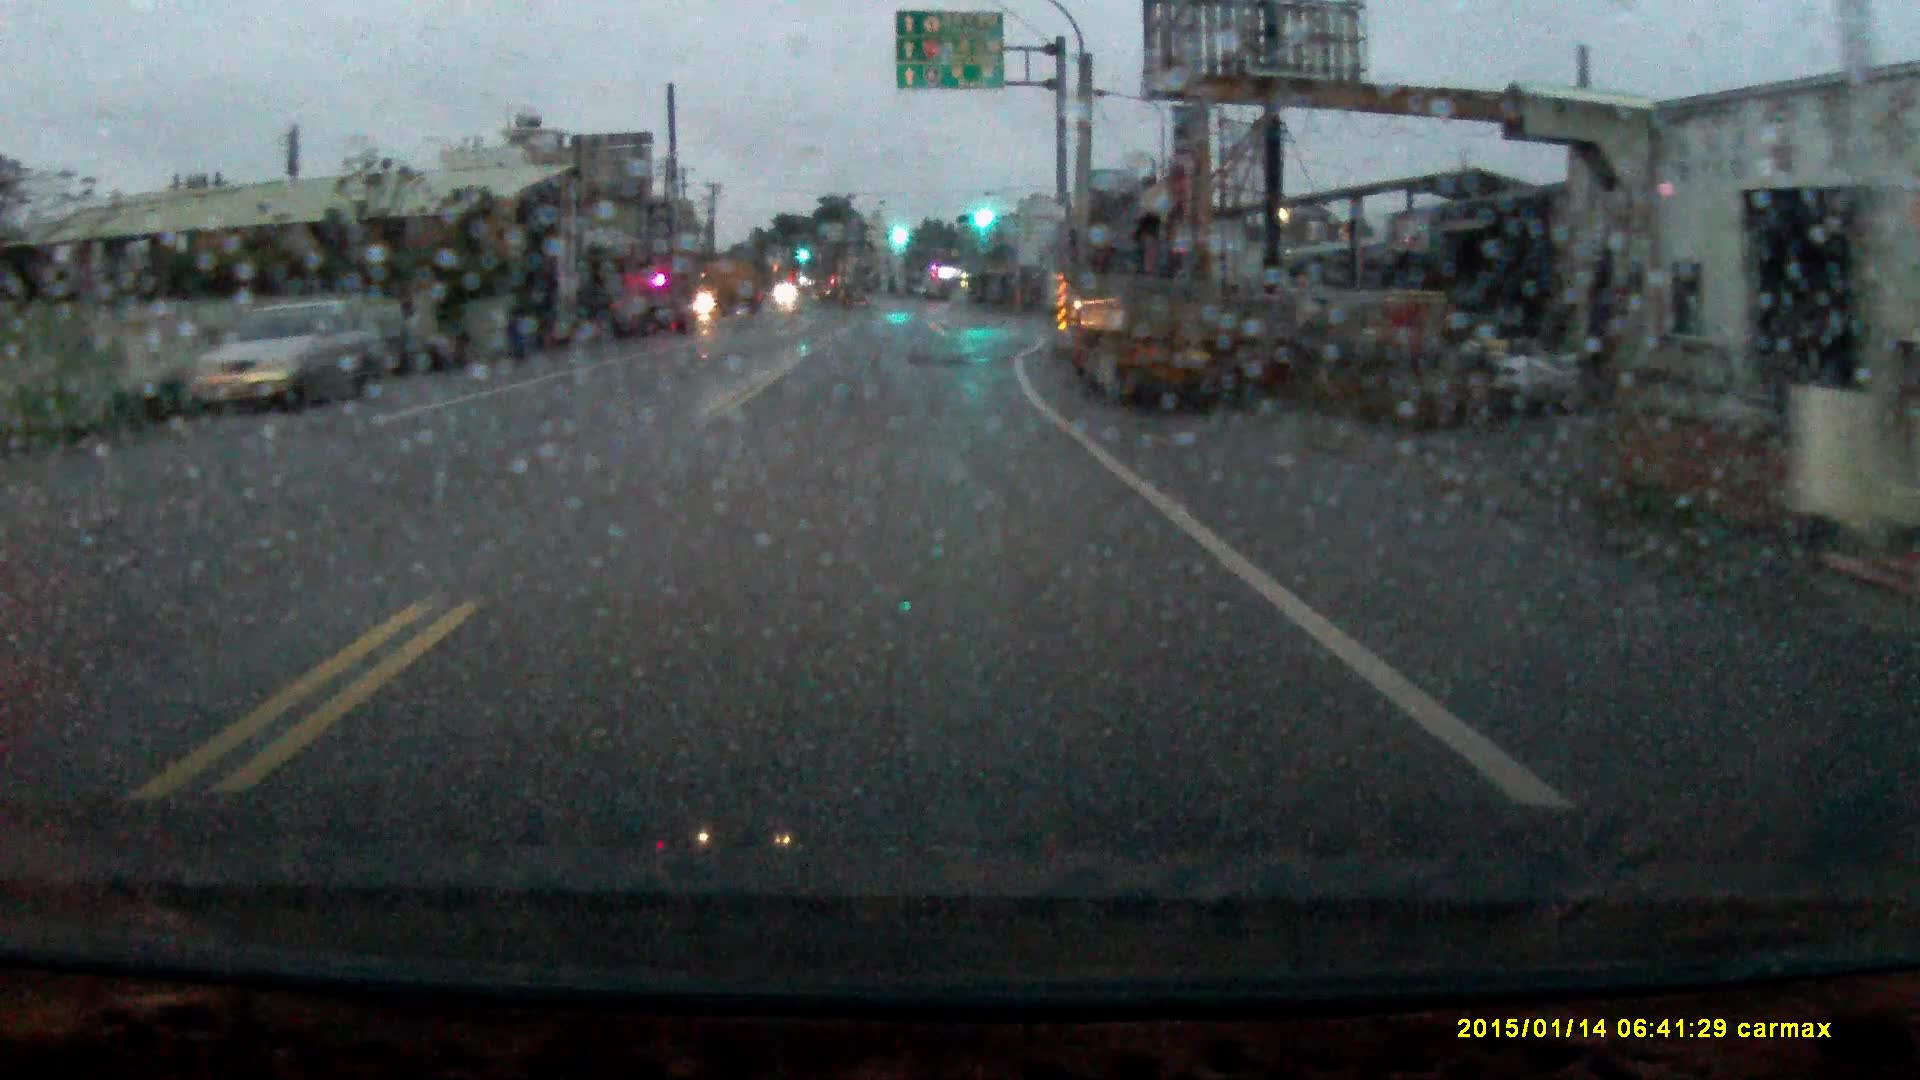vehicle: (1058, 237, 1251, 417), (181, 301, 382, 415), (684, 262, 765, 320)
